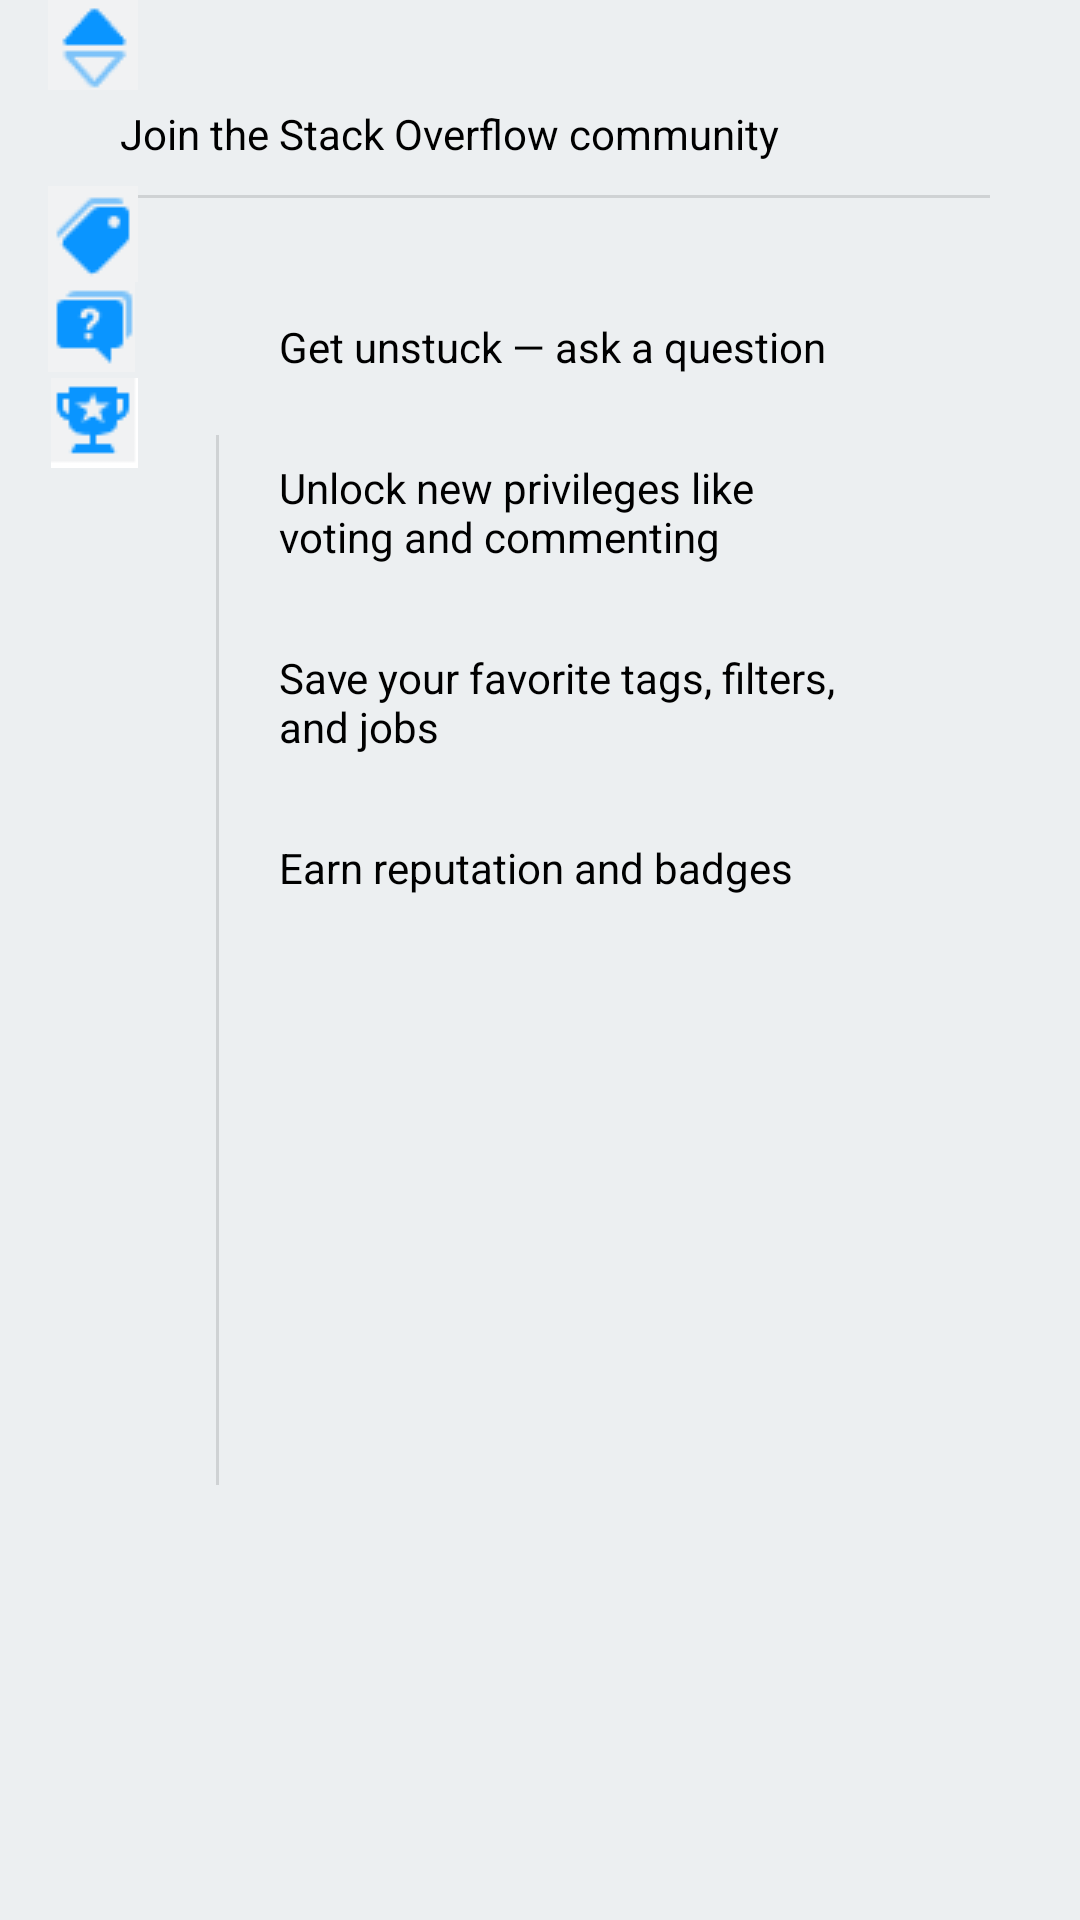

Named icons in this screenshot (1080 × 1920) and their bounding boxes, (x1, y1, x2, y2):
stackoverflow signup badges: (56, 386, 130, 454)
stackoverflow signup question: (56, 290, 133, 364)
stackoverflow signup tag: (56, 197, 130, 275)
stackoverflow signup vote: (62, 8, 127, 88)
